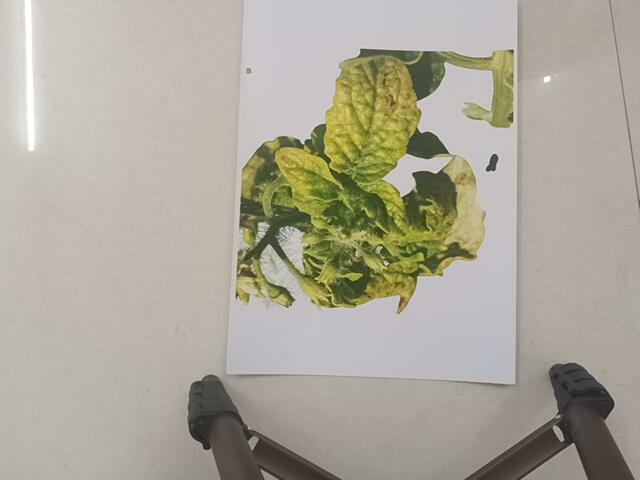Tomamto_Leaf_curl_virus: (239, 65, 505, 315)
